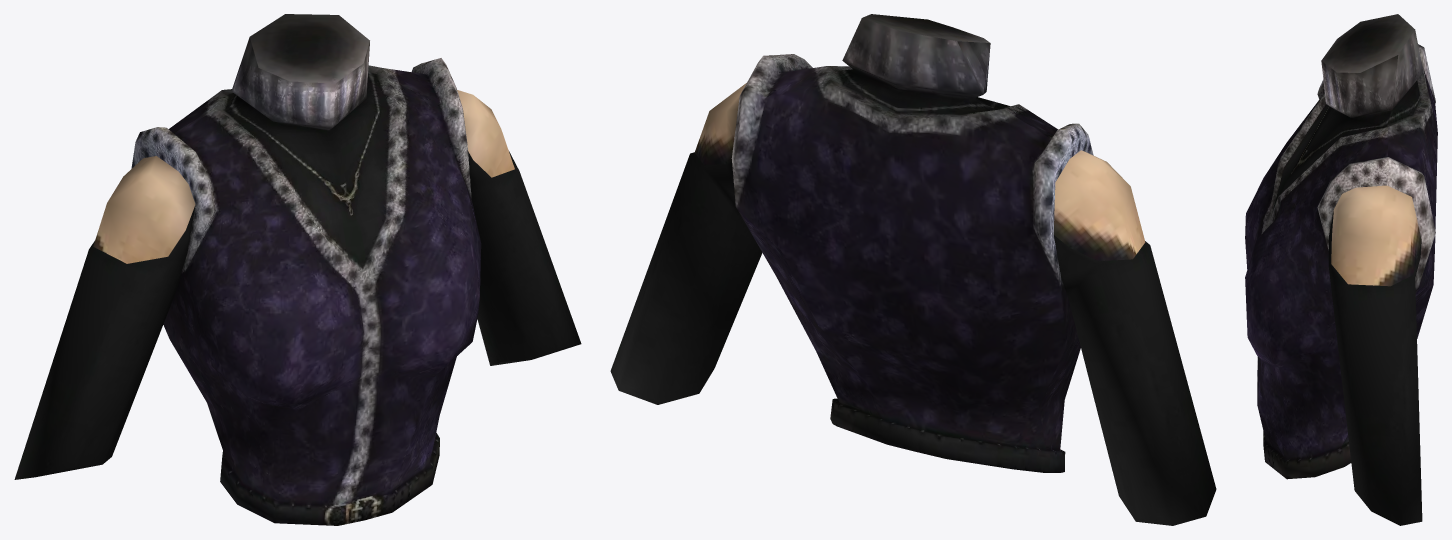
File: STATIC_GS_HUM_ARMOR_DRESS_06.glb
3 renders of one model, left to right at view 1: azimuth 30°, elevation 25°; view 2: azimuth 150°, elevation 25°; view 3: azimuth 270°, elevation 25°, orthographic. The views are drawn at different scales.
Visible parts, largest first — view 1: Mesh; view 2: Mesh; view 3: Mesh.
Part boxes in pixels (box(x1,y1,x2,y2)): Mesh: box(14, 14, 581, 525); Mesh: box(610, 14, 1216, 525); Mesh: box(1245, 14, 1437, 525).
Bounding box in the file's own units: 0.6107 × 0.4697 × 0.1946.
Materials: 2 (2 with a texture image).
